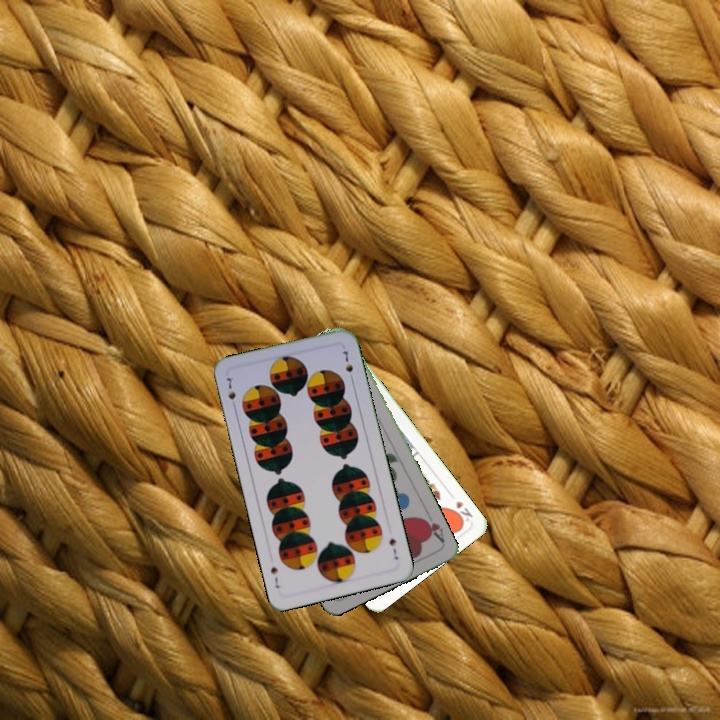HA: (418, 508, 447, 546)
HK: (448, 497, 475, 526)
S7: (222, 373, 239, 412), (385, 534, 401, 562)
